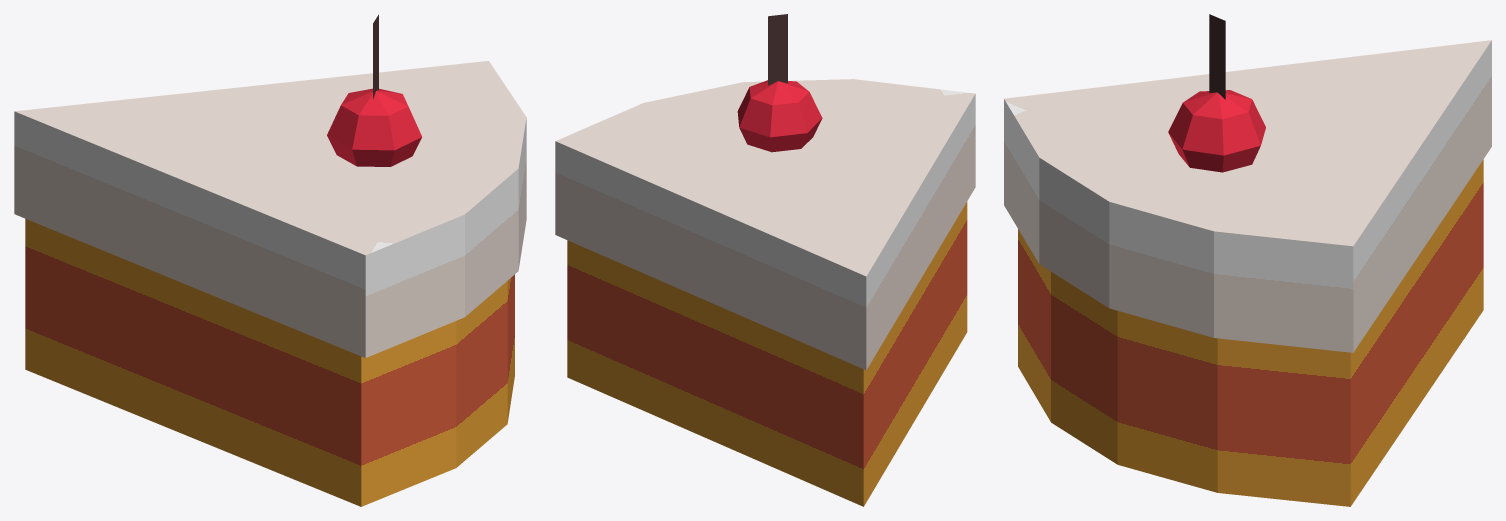
File: carrot_cake.glb
The picture shows the model from 3 angles, left to right: view 1: azimuth 30°, elevation 25°; view 2: azimuth 150°, elevation 25°; view 3: azimuth 270°, elevation 25°; orthographic projection. The views are drawn at different scales.
Parts seen in each view (by area): view 1: plane (×2), sphere; view 2: plane (×3), sphere; view 3: plane (×3), sphere.
Boxes of the visible parts, bbox=[...] form: plane (×2): bbox=[14, 61, 526, 506]; sphere: bbox=[327, 88, 421, 166]; plane (×3): bbox=[555, 14, 975, 506]; sphere: bbox=[737, 80, 822, 152]; plane (×3): bbox=[1004, 14, 1491, 506]; sphere: bbox=[1168, 90, 1265, 172].
Bounding box in the file's own units: 0.6482 × 0.5938 × 0.6482.
1 material, 1 textured.
